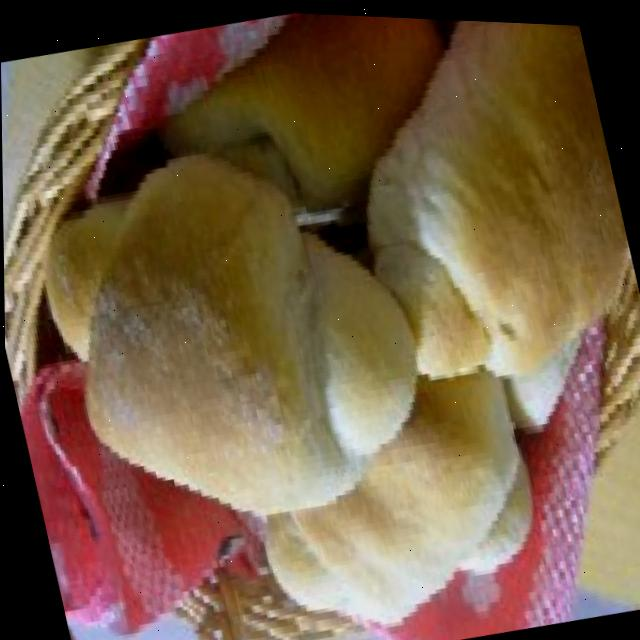面包点心: (3, 0, 640, 640)
